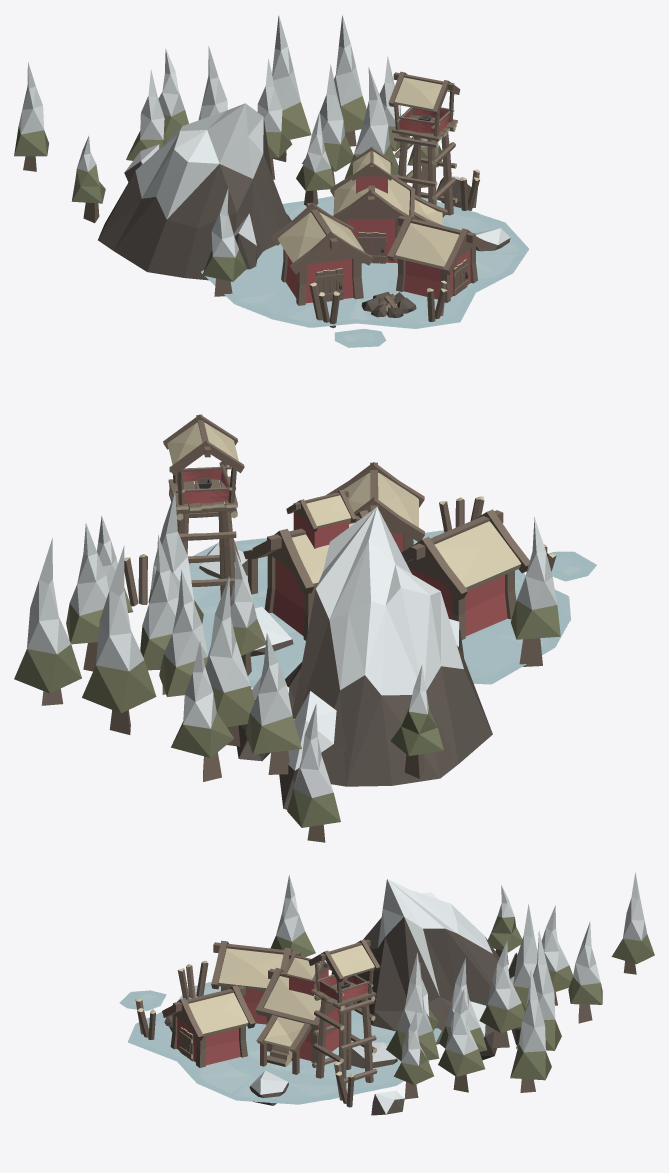
File: townTundra01.fbx
3 renders of one model, top to bottom at view 1: azimuth 30°, elevation 25°; view 2: azimuth 150°, elevation 25°; view 3: azimuth 270°, elevation 25°, orthographic. The views are drawn at different scales.
Visible parts, largest first — view 1: townTundra01, groundDecal; view 2: townTundra01, groundDecal; view 3: townTundra01, groundDecal.
Part boxes in pixels (bbox=[...]): townTundra01: bbox=[14, 15, 510, 328]; groundDecal: bbox=[201, 196, 528, 347]; townTundra01: bbox=[14, 414, 560, 842]; groundDecal: bbox=[189, 530, 596, 687]; townTundra01: bbox=[135, 872, 654, 1115]; groundDecal: bbox=[119, 981, 441, 1104].
Bounding box in the file's own units: 9.37 × 3.28 × 10.65.
